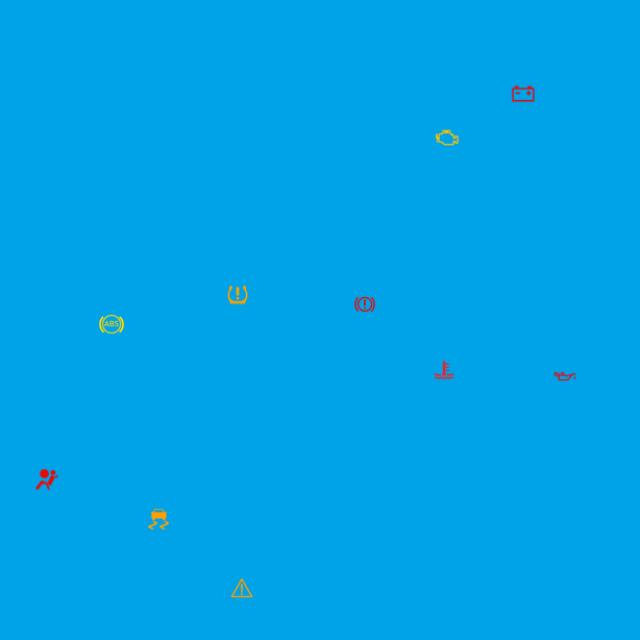Anti Lock Braking System: (98, 310, 125, 338)
Braking System Issue: (352, 291, 378, 318)
Charging System Issue: (510, 80, 537, 108)
Check Engine: (434, 124, 461, 151)
Electronic Stability Problem -ESP-: (145, 506, 172, 532)
Engine Overheating Warning Light: (430, 356, 458, 384)
Low Engine Oil Warning Light: (552, 363, 578, 390)
Low Tire Pressure Warning Light: (224, 282, 251, 308)
Master warning light: (228, 574, 256, 602)
SRS-Airbag: (34, 466, 61, 493)
